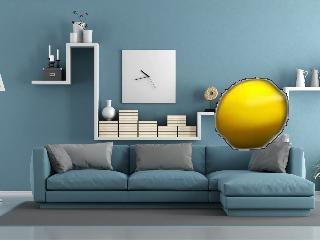lemon: (218, 79, 288, 148)
